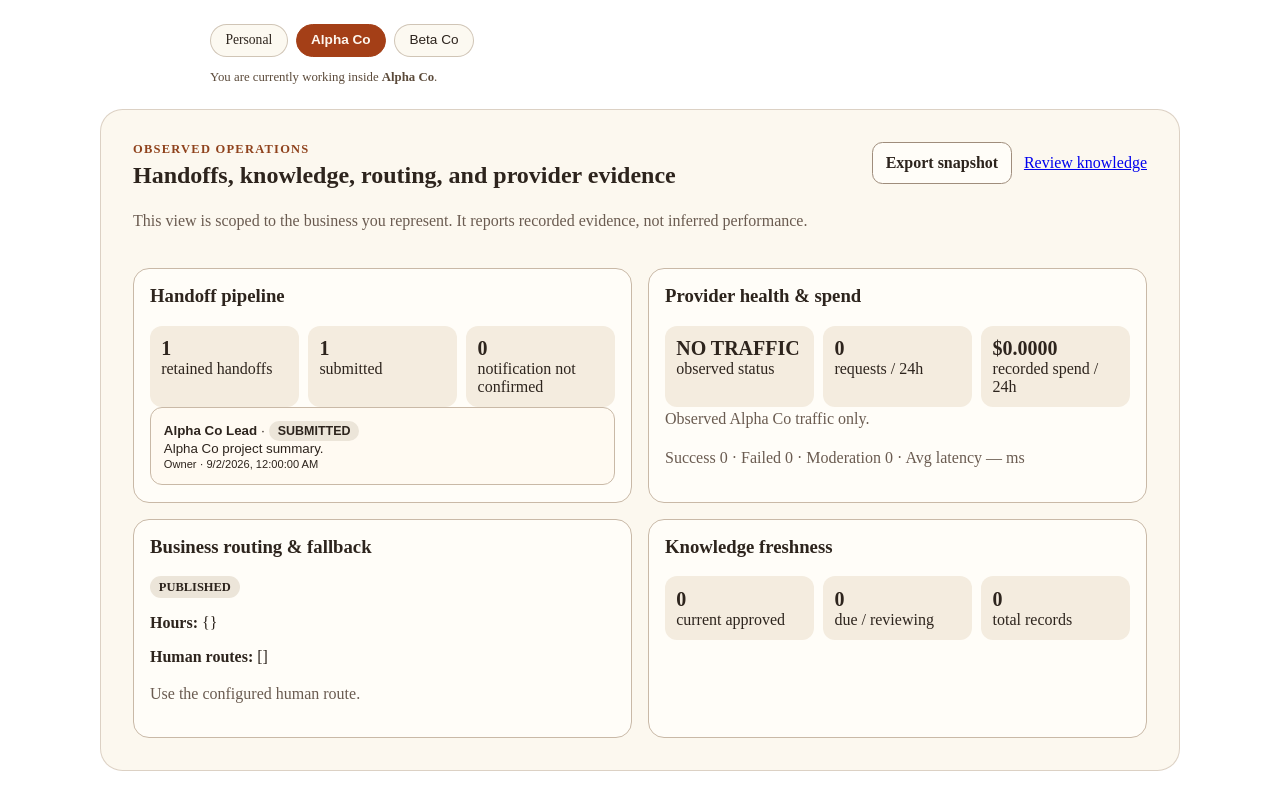
Test: Company A → Company B tenant switching (Step 1 repair) › drops Company A's records immediately and loads Company B's on switch — no stale record stays actionable
This screenshot has width=1280, height=800.
Expected: the button "Alpha Co Lead" is shown, [150,407,615,485]
Click the button "Beta Co": x=434, y=40 [394,24,474,57]
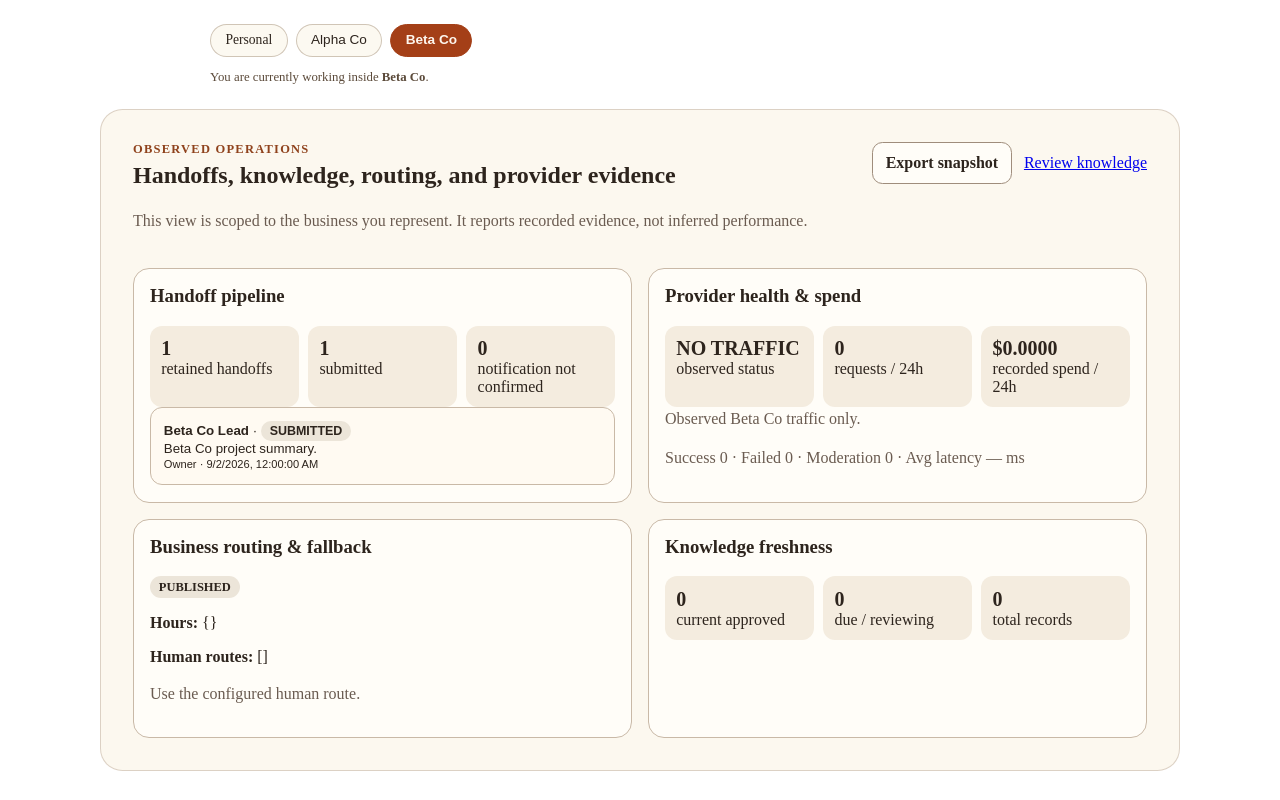
Result: the button "Alpha Co Lead" is gone
Result: the button "Beta Co Lead" is shown at [150,407,615,485]
